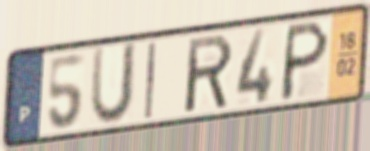4: (233, 25, 278, 108)
5: (45, 49, 85, 132)
I: (143, 39, 159, 122)
P: (277, 18, 332, 104)
R: (184, 31, 235, 116)
U: (87, 40, 140, 129)
